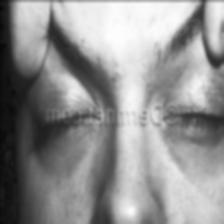Unclassified: (173, 83, 224, 103), (36, 90, 91, 108)
